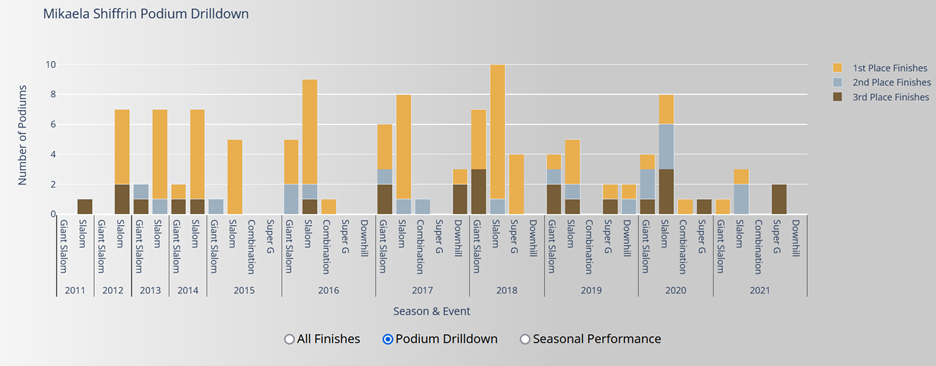

This screenshot's page, from the dashboard's own definition file:
{"tool":"tableau","page":{"name":"Dashboard 1","canvas":[1000,1000],"units":"permille","ordinal":0},"visuals":[{"type":"worksheet","title":"Sheet 1","mark":"Automatic","box":[2.1,4.2,888.5,991.5]},{"type":"filter","title":"Sheet 1","param":"[federated.146amrn0jlxjl911misc91clc58j].[none:Medal:ok]","box":[890.6,4.2,107.3,47.2]},{"type":"filter","title":"Sheet 1","param":"[federated.146amrn0jlxjl911misc91clc58j].[none:USOC Master Competition Set Name:","box":[890.6,51.4,107.3,150.1]},{"type":"legend","title":"Sheet 1","param":"[federated.146amrn0jlxjl911misc91clc58j].[cnt:Medal:qk]","box":[890.6,201.5,107.3,43]},{"type":"filter","title":"Sheet 1","param":"[federated.146amrn0jlxjl911misc91clc58j].[none:Event Gender:nk]","box":[890.6,244.4,107.3,64.2]},{"type":"filter","title":"Sheet 1","param":"[federated.146amrn0jlxjl911misc91clc58j].[none:Event Name Short:nk]","box":[890.6,308.6,107.3,121.4]}]}

Visuals, with their boxes on the dashboard's canvas, which has no fixed pixel size, in thousandths of its width and height (x1, y1, x2, y2). These are canvas units, not pixel positions in the 936x366 screenshot, which may show the page scaled, cropped or inside an application window:
"Sheet 1" worksheet: pyautogui.locateOnScreen(2, 4, 891, 996)
"Sheet 1" filter: pyautogui.locateOnScreen(891, 4, 998, 51)
"Sheet 1" filter: pyautogui.locateOnScreen(891, 51, 998, 202)
"Sheet 1" legend: pyautogui.locateOnScreen(891, 202, 998, 244)
"Sheet 1" filter: pyautogui.locateOnScreen(891, 244, 998, 309)
"Sheet 1" filter: pyautogui.locateOnScreen(891, 309, 998, 430)
